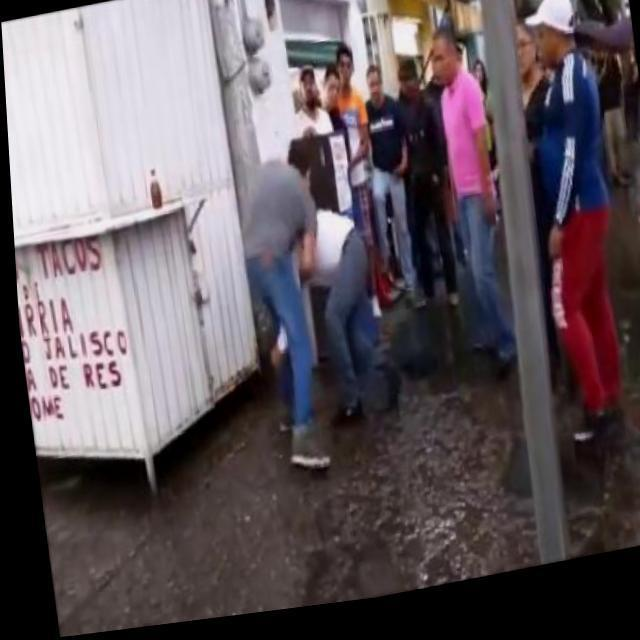fight: (222, 133, 388, 476)
